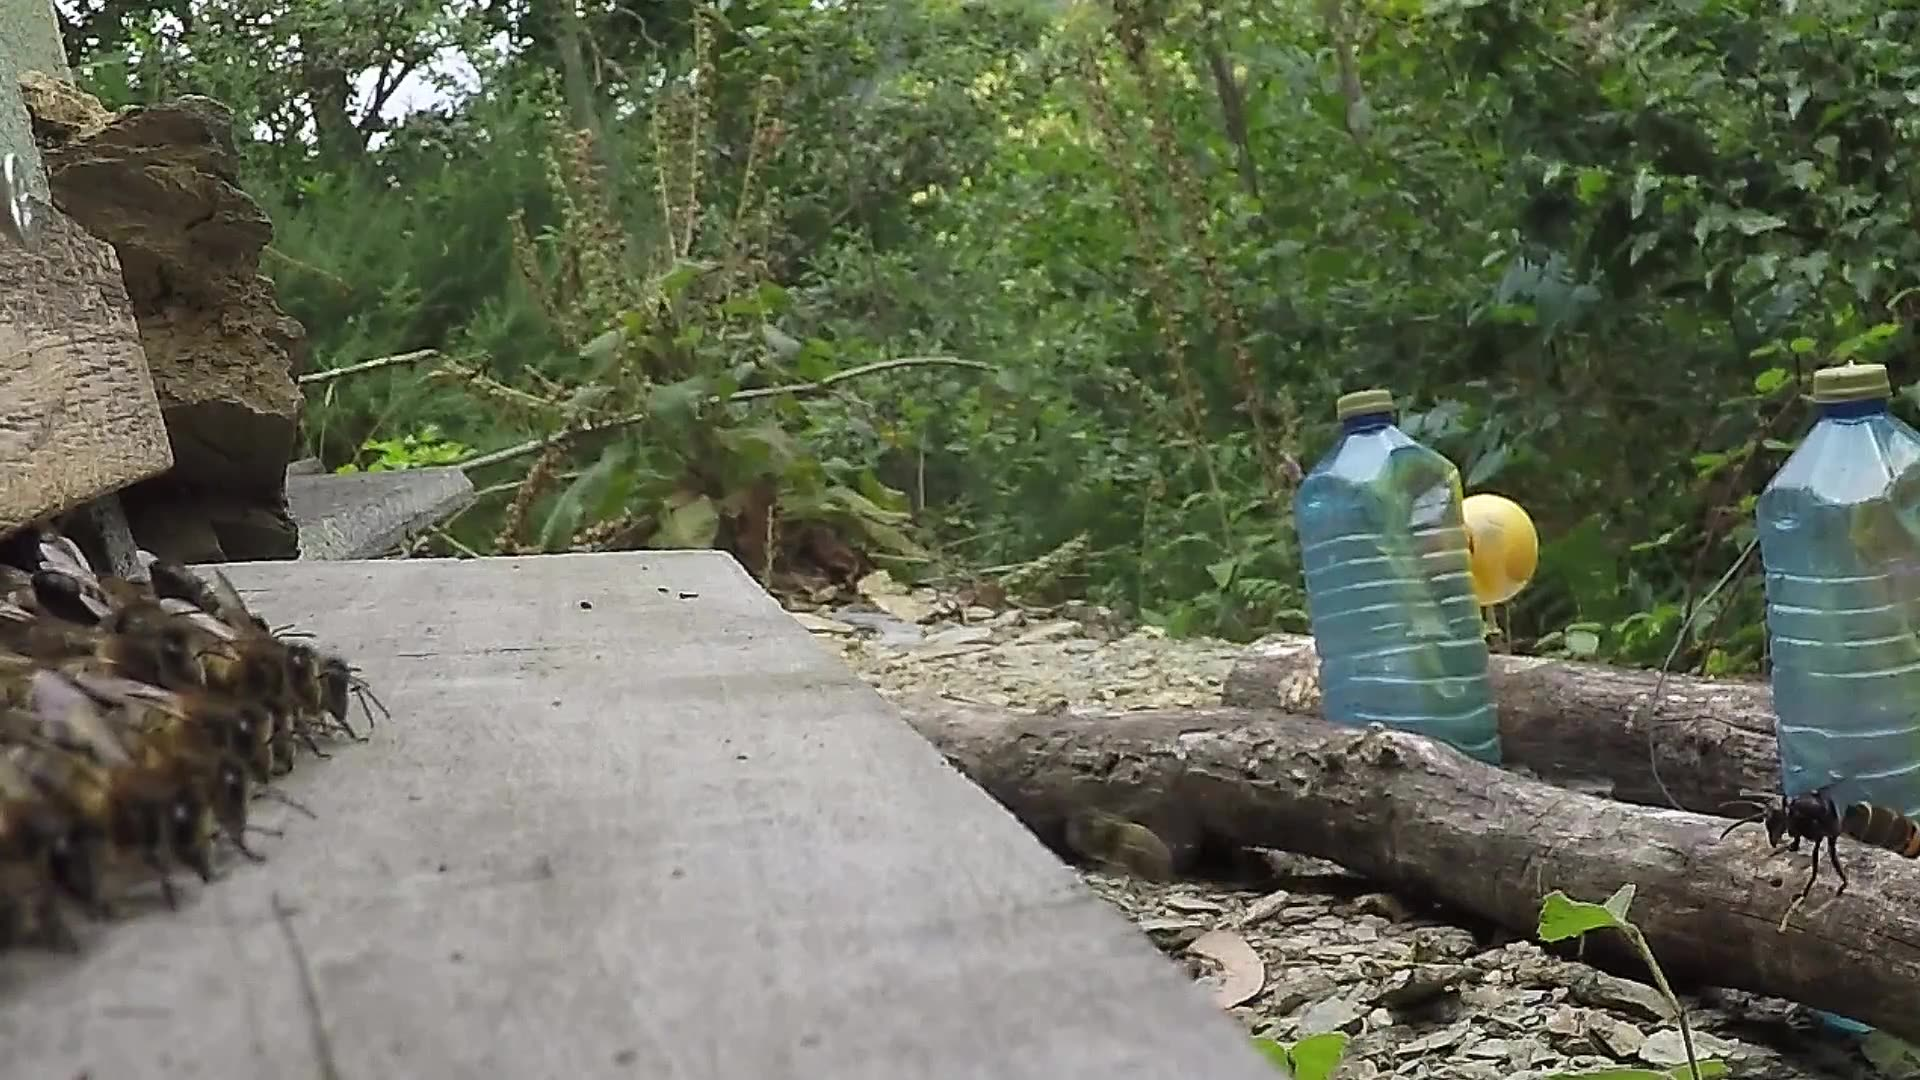bee: (4, 520, 386, 938)
hornet: (1749, 779, 1920, 874)
